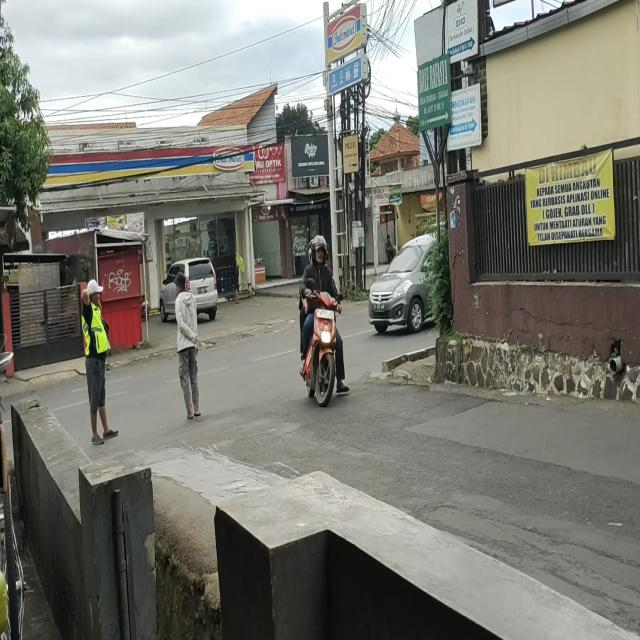helmet: (314, 236, 328, 268), (308, 244, 315, 265)
